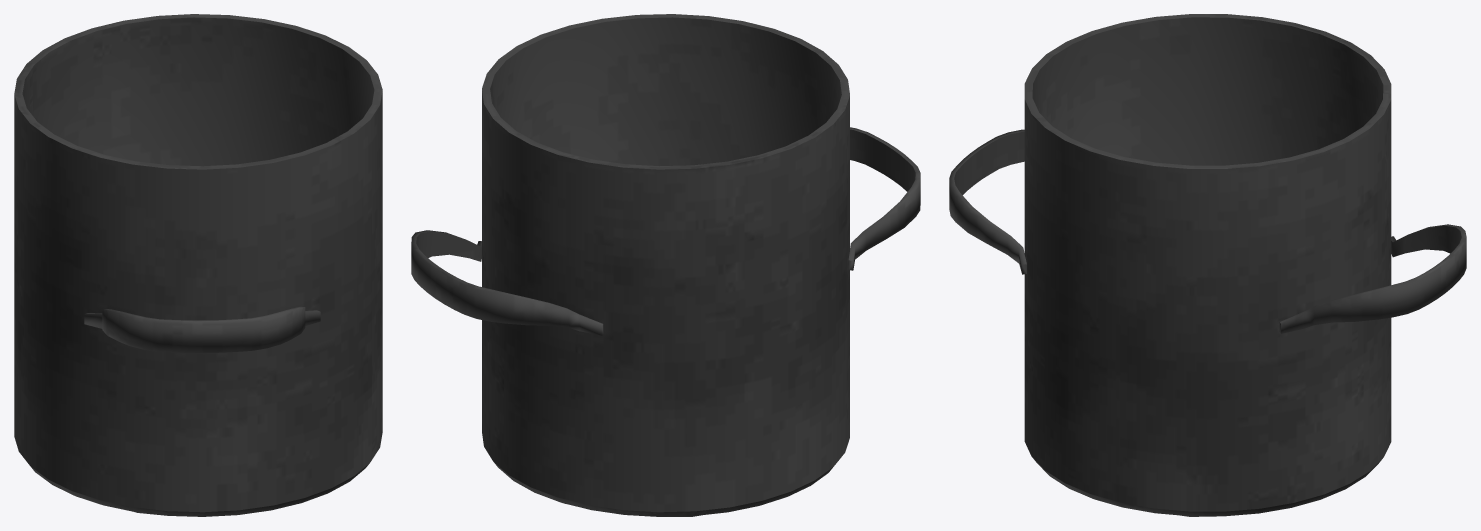
3 renders of one model, left to right at view 1: azimuth 30°, elevation 25°; view 2: azimuth 150°, elevation 25°; view 3: azimuth 270°, elevation 25°, orthographic.
Visible parts, largest first — view 1: SM_Pot_02; view 2: SM_Pot_02; view 3: SM_Pot_02.
Part boxes in pixels (x1,y1,x2,y2): SM_Pot_02: [14, 14, 382, 516]; SM_Pot_02: [411, 14, 920, 516]; SM_Pot_02: [949, 14, 1466, 516].
Size of the model in its own units: 30.41 by 31.15 by 41.28.
1 material, 1 textured.
